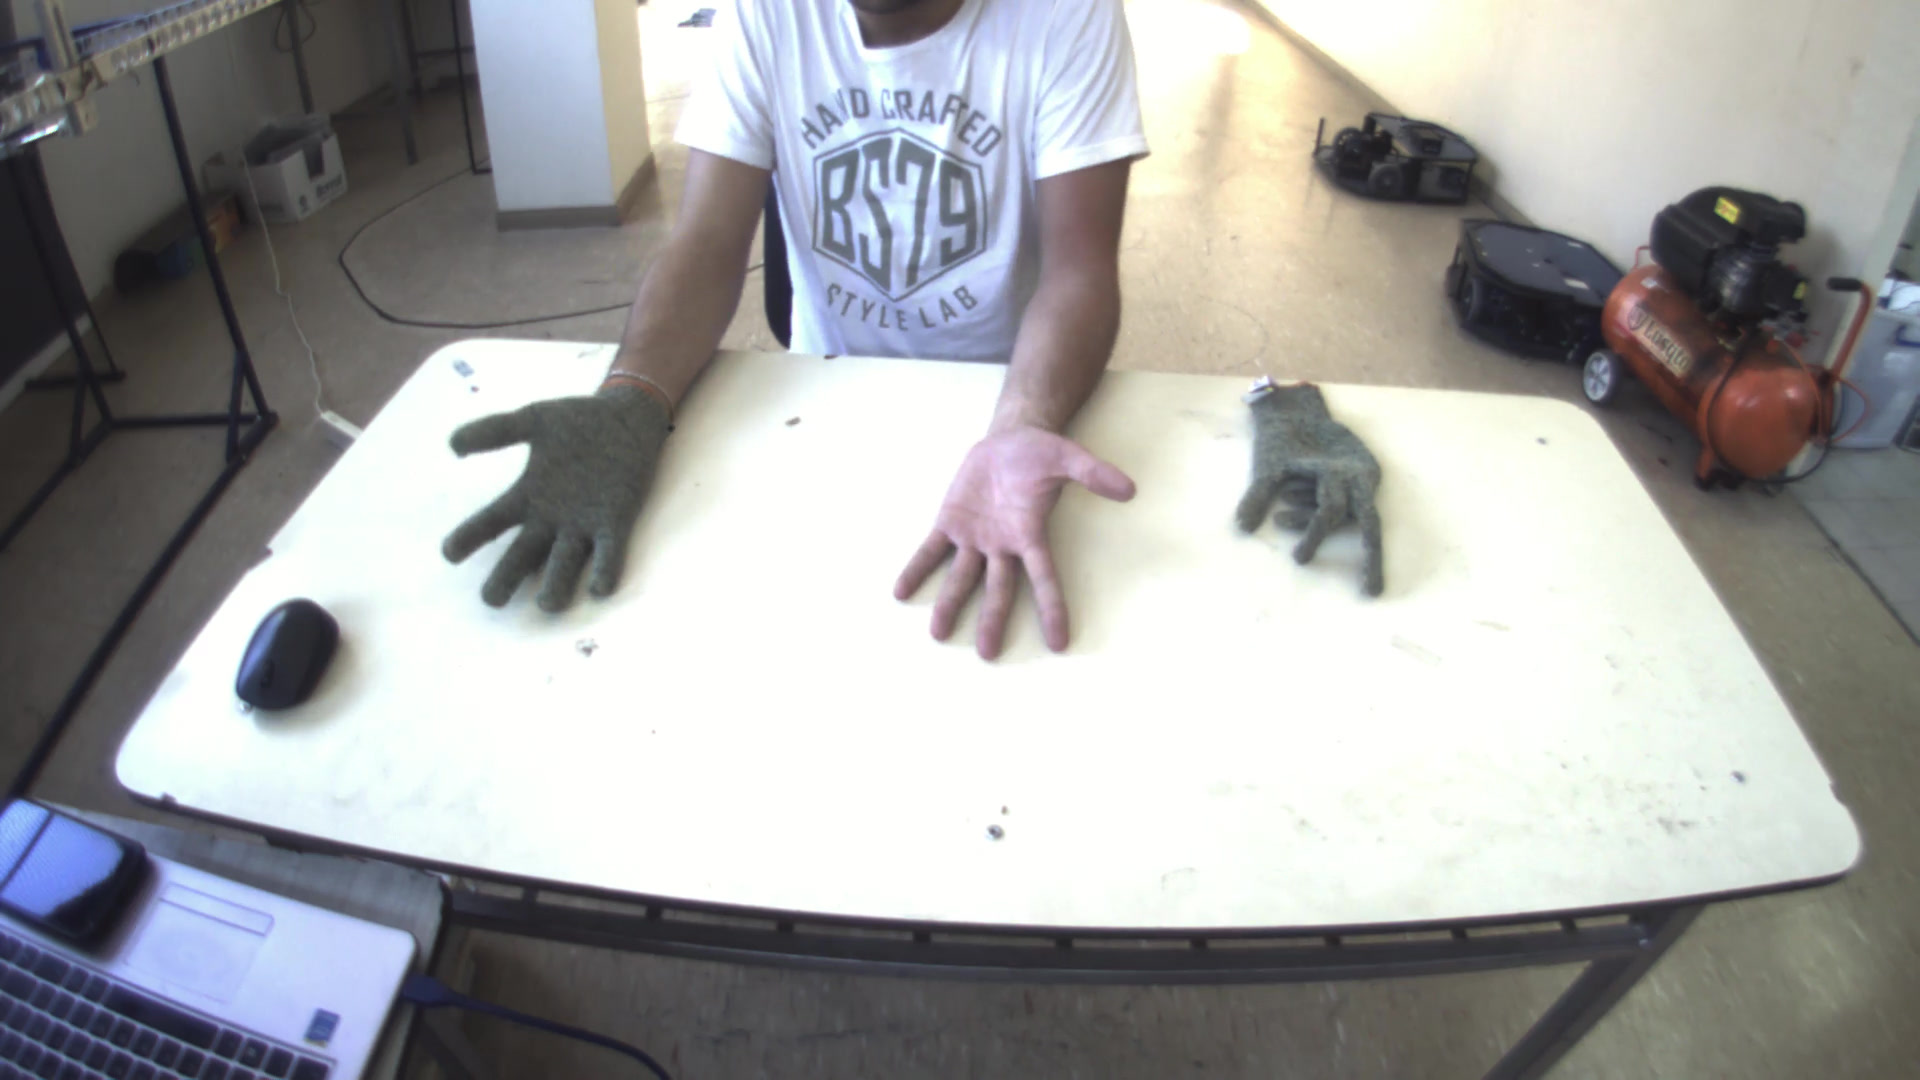hand: (887, 406, 1145, 669), (419, 372, 679, 626)
